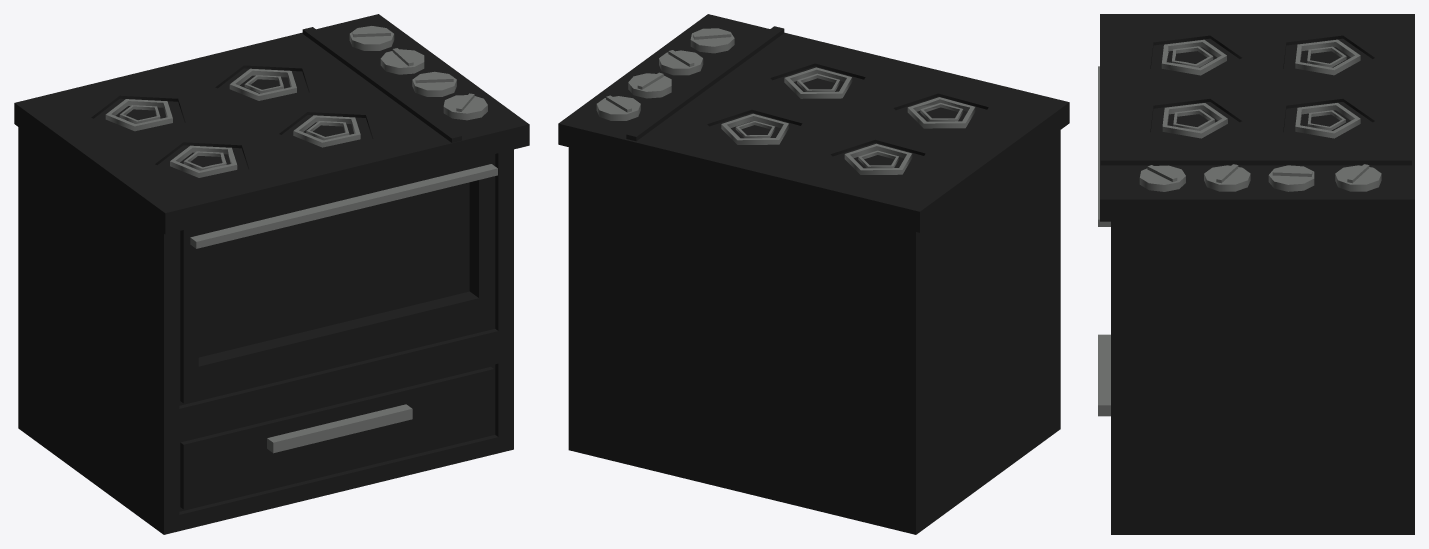
File: Cocina_Estufa_05.fbx
The picture shows the model from 3 angles, left to right: view 1: azimuth 30°, elevation 25°; view 2: azimuth 150°, elevation 25°; view 3: azimuth 270°, elevation 25°; orthographic projection. The views are drawn at different scales.
Parts seen in each view (by area): view 1: HORNO; view 2: HORNO; view 3: HORNO.
Boxes of the visible parts, <box> form: HORNO: <box>14,14,529,534</box>; HORNO: <box>558,14,1069,534</box>; HORNO: <box>1098,14,1414,534</box>.
Bounding box in the file's own units: 88.58 × 78.11 × 63.92.
2 materials, 2 textured.
